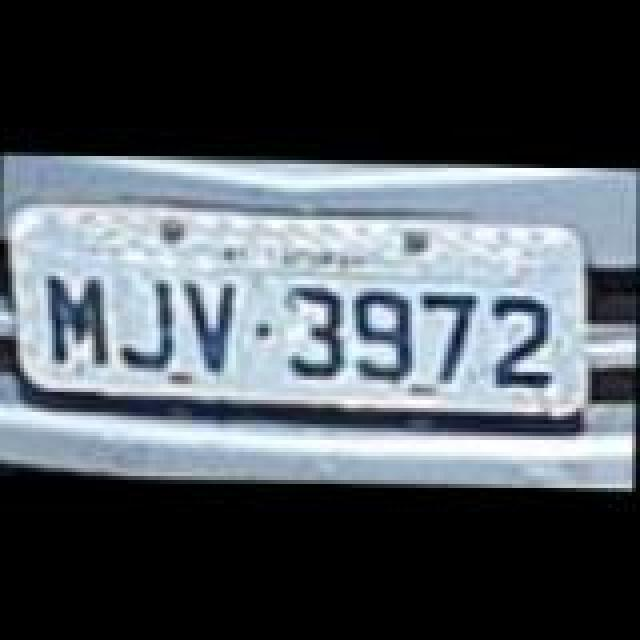2: (488, 296, 556, 392)
3: (286, 286, 350, 382)
7: (420, 290, 488, 382)
9: (352, 288, 420, 384)
J: (112, 278, 180, 370)
M: (46, 272, 118, 368)
V: (184, 280, 244, 376)
